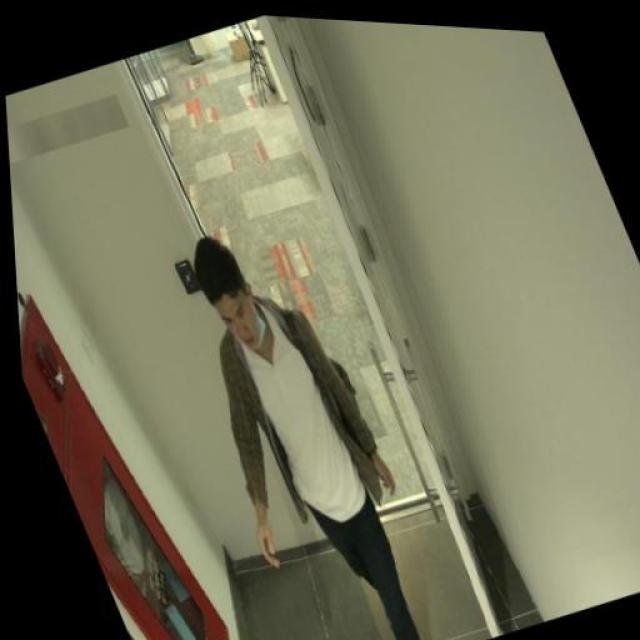hairnet: (212, 288, 272, 357)
